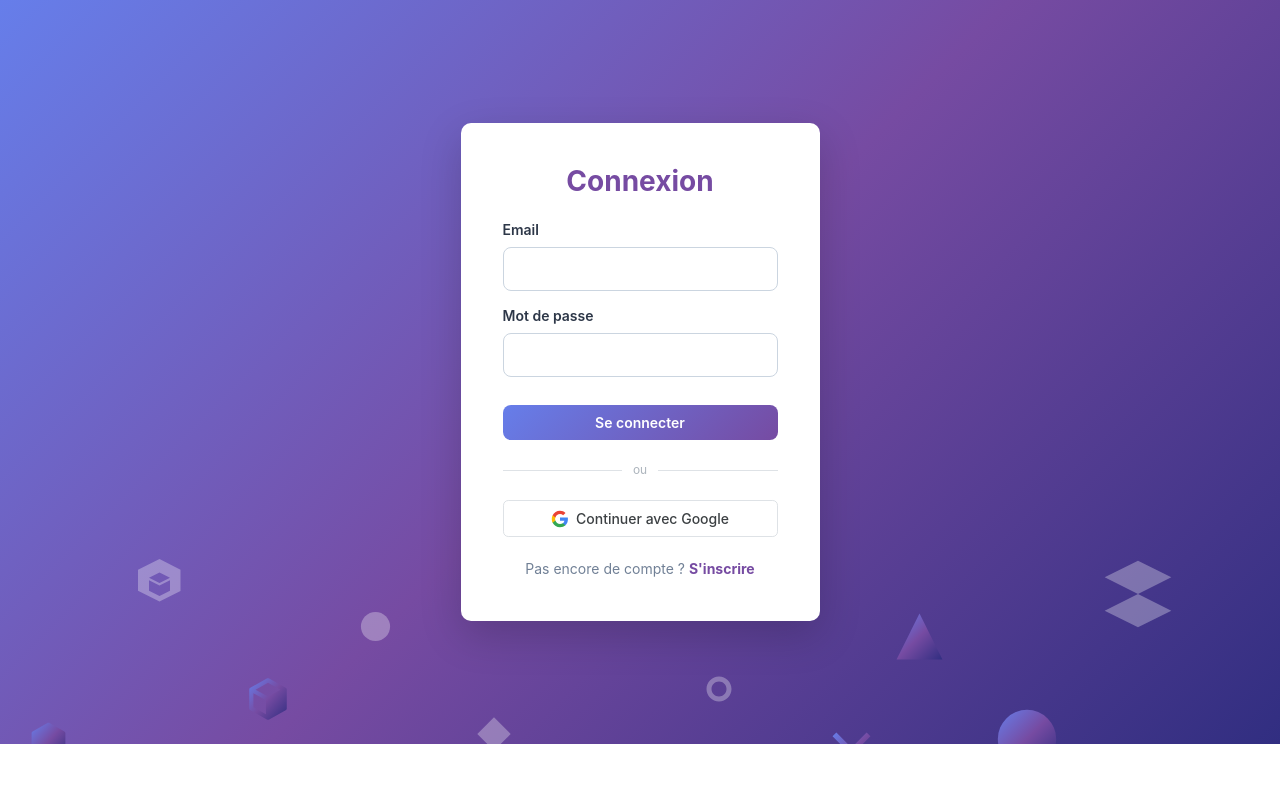
Test: Page Login › affiche un message d'erreur si la connexion échoue
Type "wrong@test.com" into the field labelled "Email" at (640, 269), box [502,247,778,291]
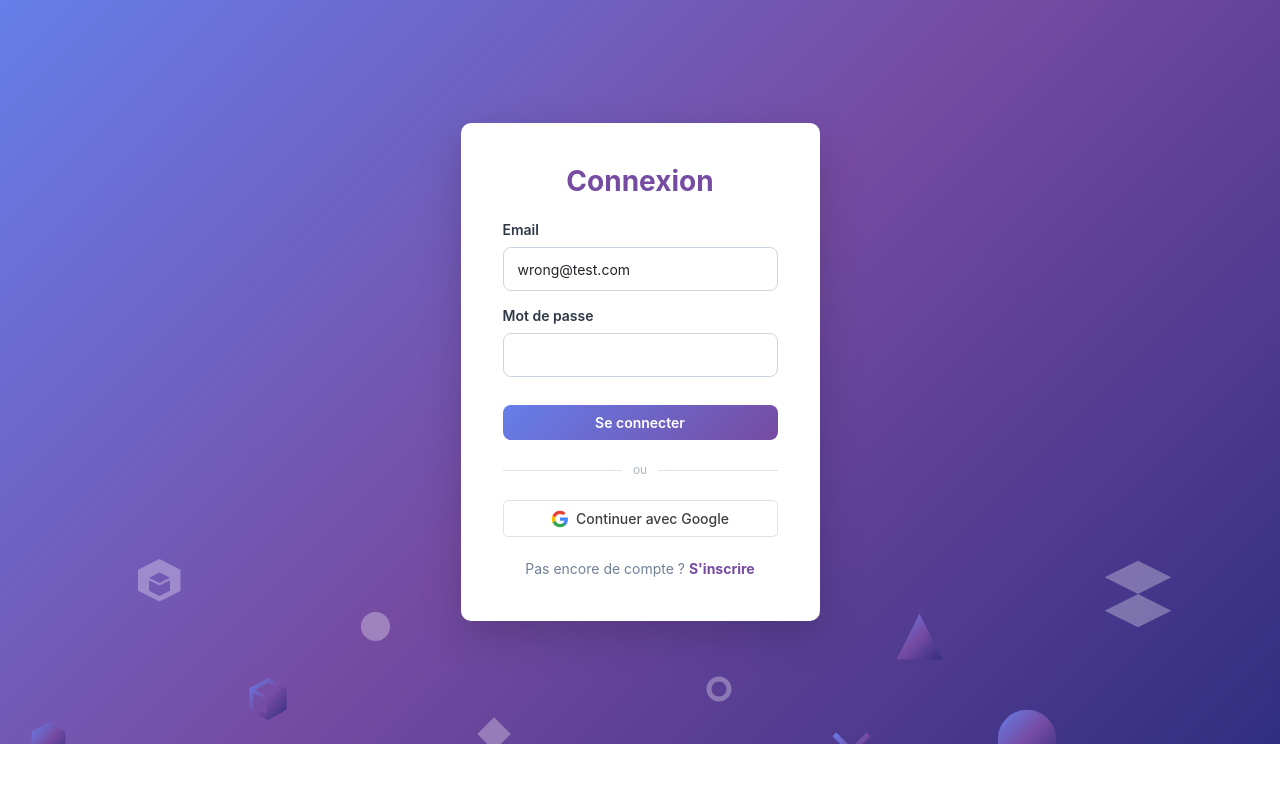
Type "wrongpass" into the password field labelled "Mot de passe" at (640, 355), box [502,333,778,377]
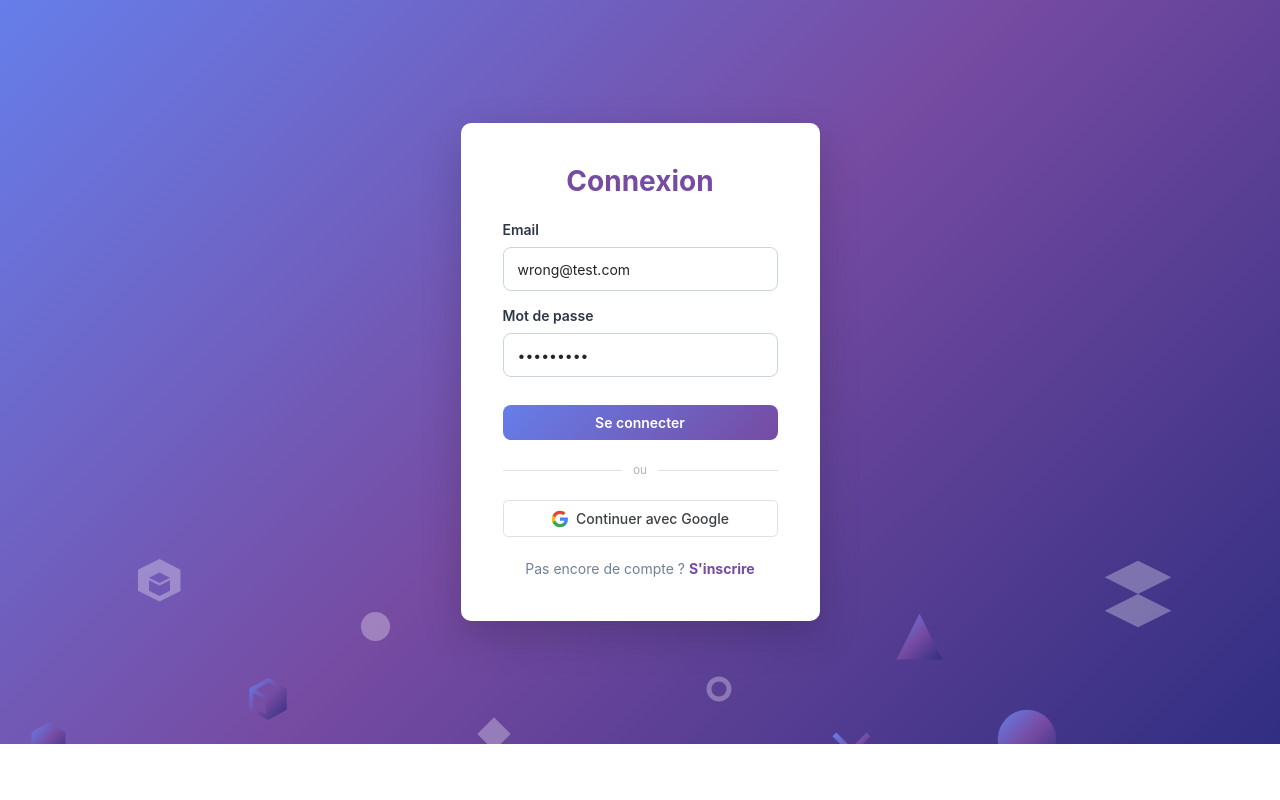
Click the button "Se connecter" at (640, 423), box [502,405,778,440]
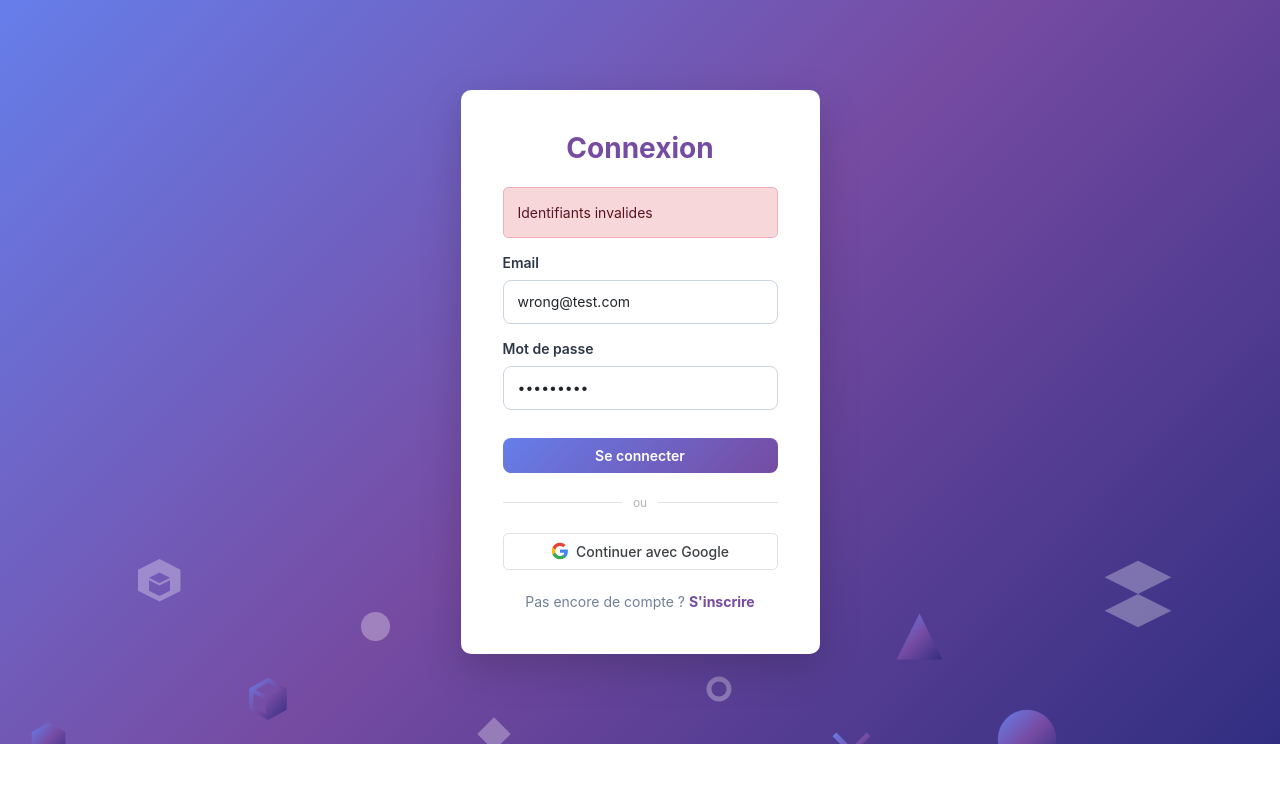
expect the text "Identifiants invalides" is shown: met, box [502,187,778,238]
